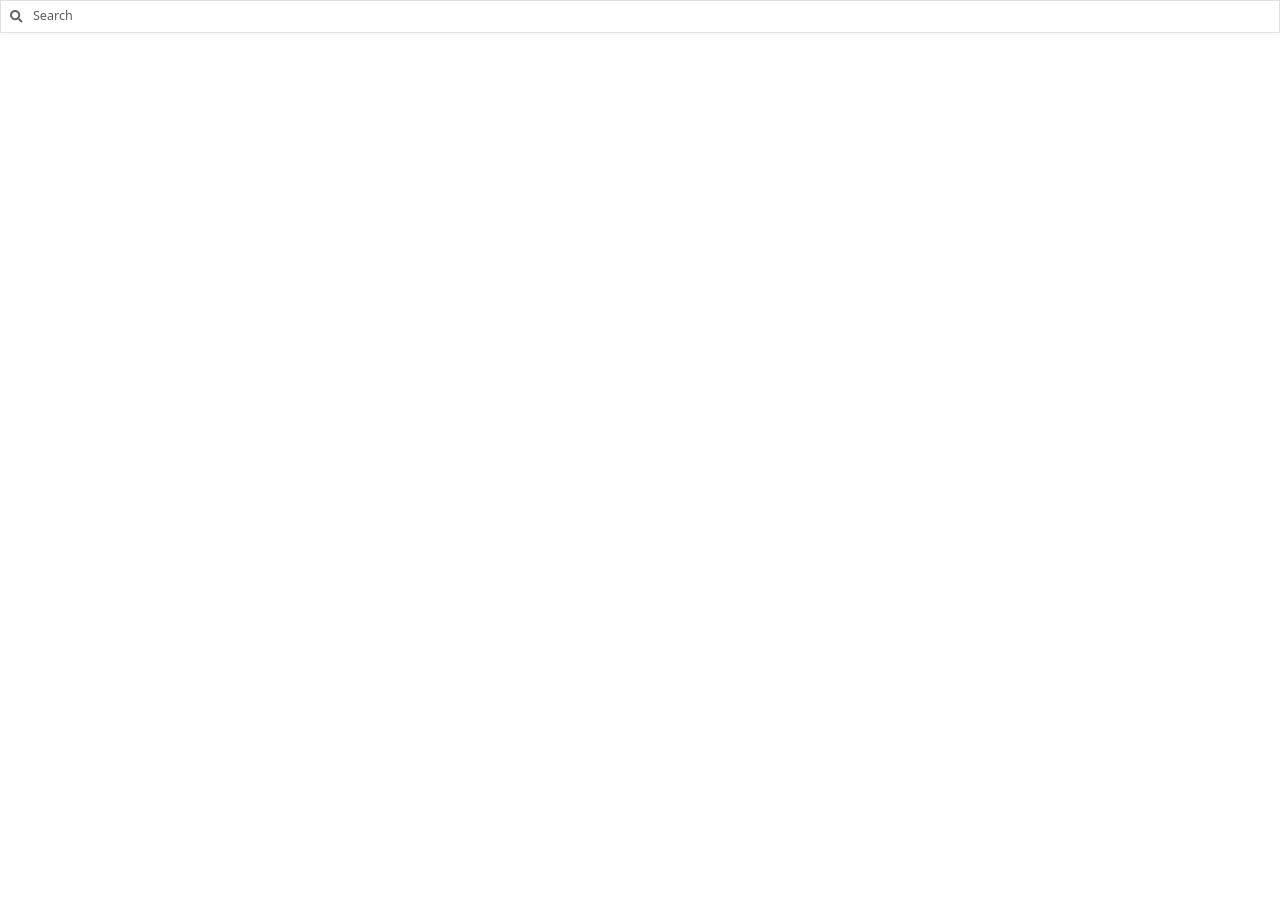
Scenario: a failed thumbnail batch leaves source results usable
Step 1. Type "rome" into the search field named "Search profiles, clubs, events, and sources" → x=655, y=16, box [32,1,1279,32]
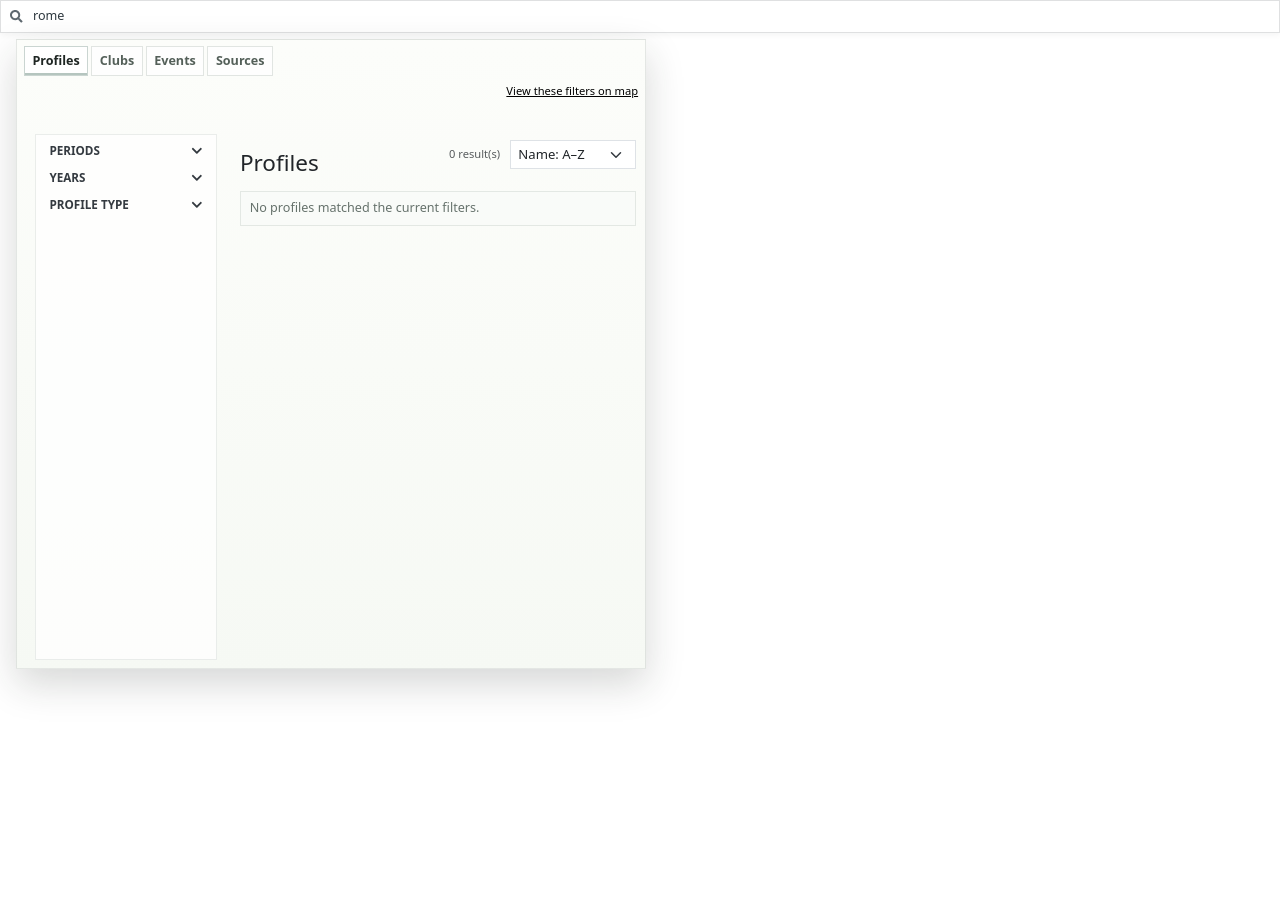
Step 2. Click the button "Sources" → x=240, y=61, box [207,46,273,76]
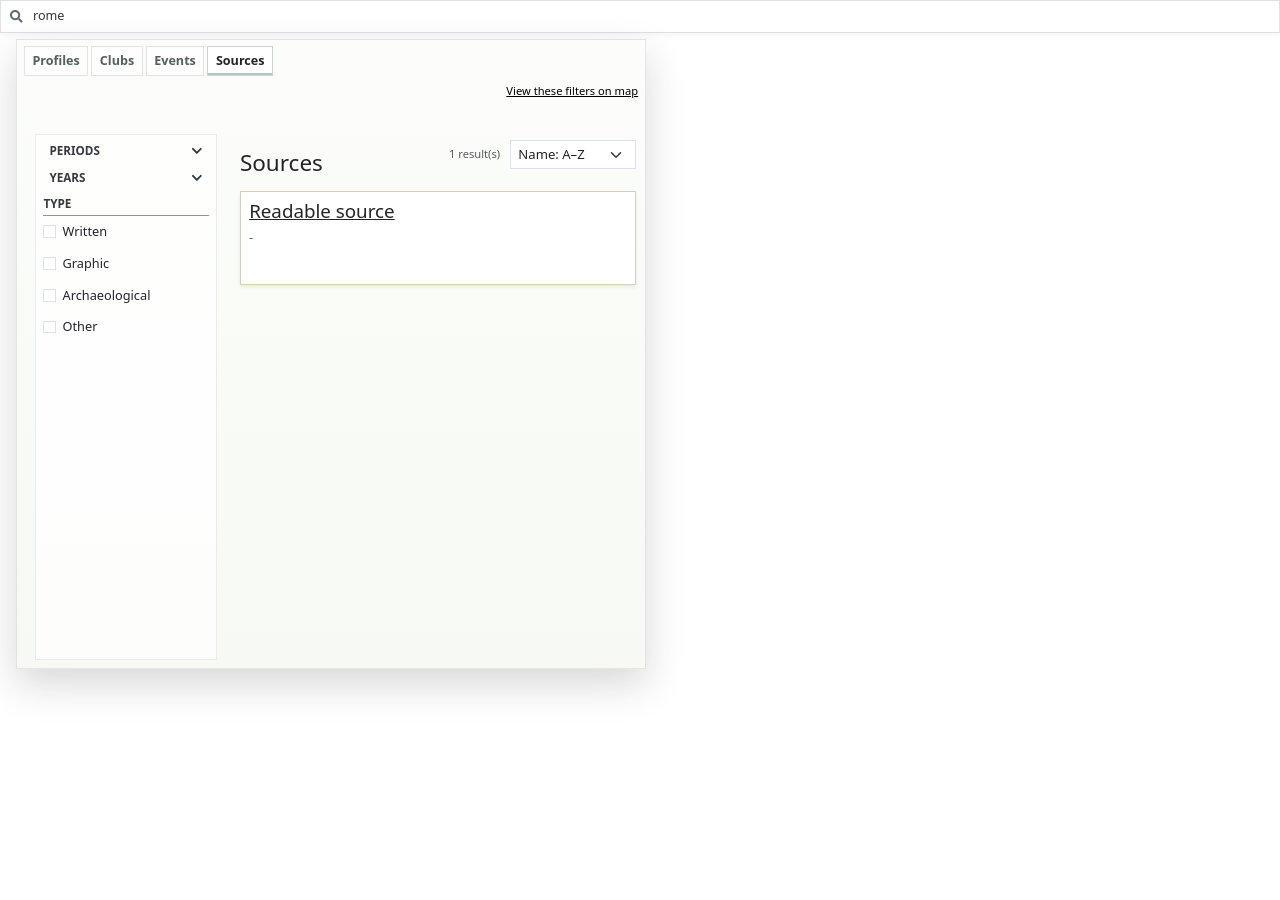
Check: the link "Readable source" is shown, box [249,198,395,223]
